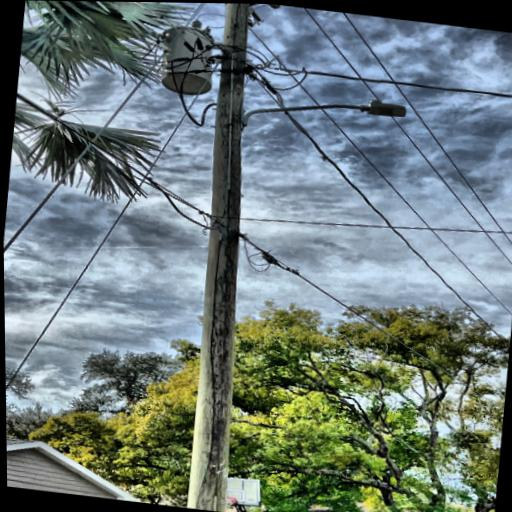pole: (162, 2, 296, 512)
street light: (236, 81, 416, 150)
transformer: (153, 19, 222, 99)
